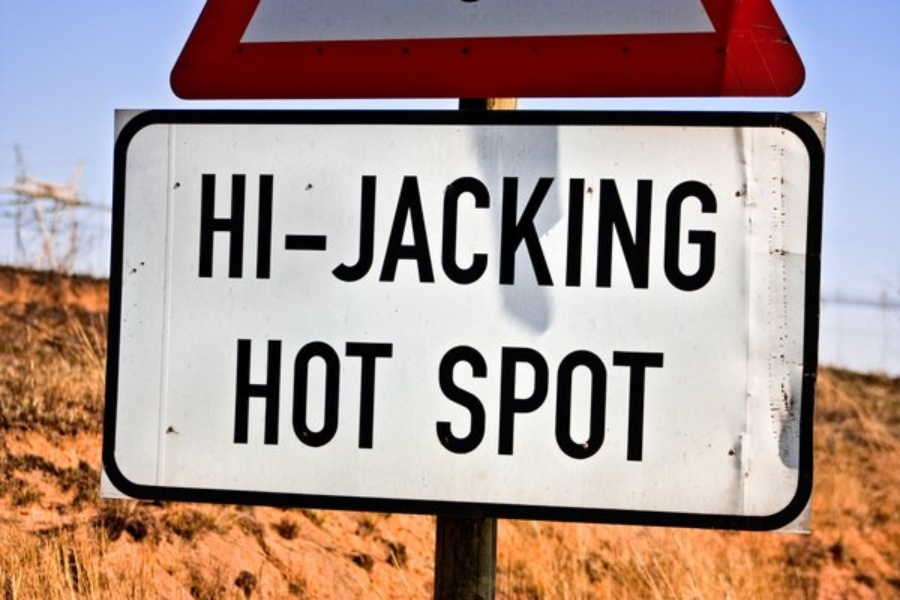text: (209, 173, 224, 293), (225, 173, 240, 293), (241, 173, 256, 293), (257, 173, 272, 293), (273, 173, 288, 293), (289, 173, 304, 293), (305, 173, 320, 293), (321, 173, 336, 293), (337, 173, 352, 293), (353, 173, 368, 293), (369, 173, 384, 293), (385, 173, 400, 293), (401, 173, 416, 293), (417, 173, 432, 293), (433, 173, 448, 293), (449, 173, 464, 293), (465, 173, 480, 293), (481, 173, 496, 293), (497, 173, 512, 293), (513, 173, 528, 293), (529, 173, 544, 293), (545, 173, 560, 293), (561, 173, 576, 293), (577, 173, 592, 293), (593, 173, 608, 293), (609, 173, 624, 293), (625, 173, 640, 293), (641, 173, 656, 293), (657, 173, 672, 293), (673, 173, 688, 293), (689, 173, 704, 293), (449, 344, 464, 464), (465, 344, 480, 464), (481, 344, 496, 464), (497, 344, 512, 464), (513, 344, 528, 464), (529, 344, 544, 464), (545, 344, 560, 464), (561, 344, 576, 464), (577, 344, 592, 464), (593, 344, 608, 464), (609, 344, 624, 464), (625, 344, 640, 464), (641, 344, 656, 464), (241, 338, 256, 451), (257, 338, 272, 451), (273, 338, 288, 451), (289, 338, 304, 451), (305, 338, 320, 451), (321, 338, 336, 451), (337, 338, 352, 451), (353, 338, 368, 451), (369, 338, 384, 451), (705, 173, 719, 293), (657, 344, 670, 464), (436, 344, 448, 464), (385, 338, 394, 451), (202, 173, 208, 293), (235, 338, 240, 451)
